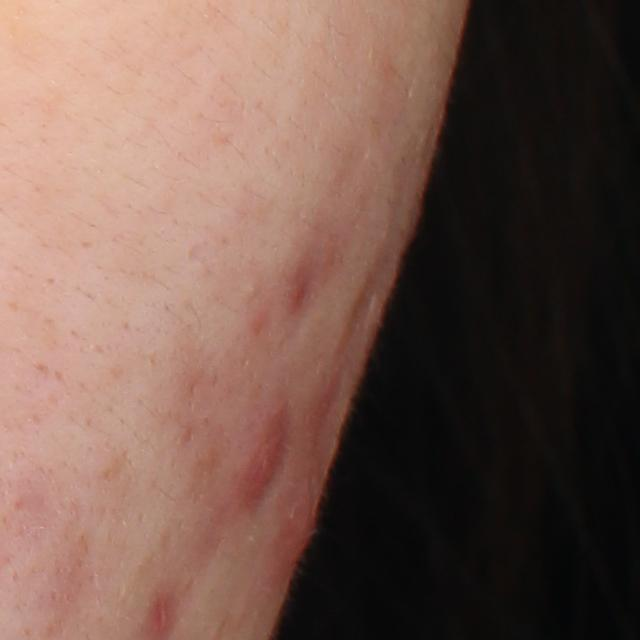comedo: (243, 279, 261, 299)
papule: (229, 394, 293, 512), (281, 488, 326, 561), (144, 593, 175, 638)
